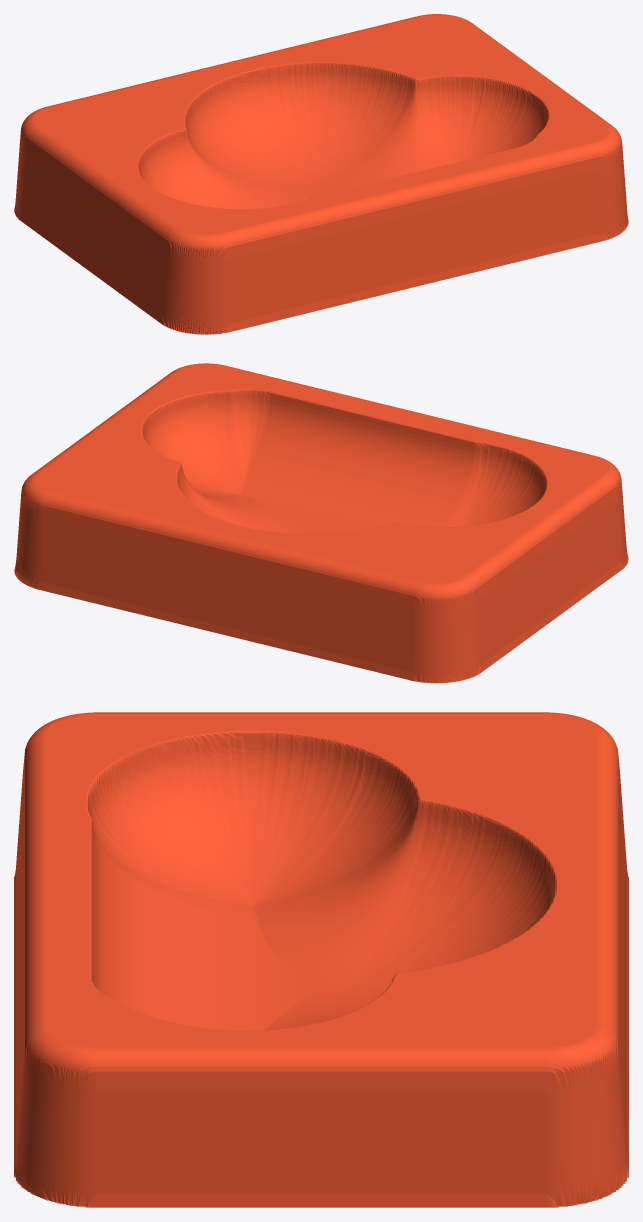
The model's file is mold.glb.
3 views of the same model, one above another, from view 1: azimuth 30°, elevation 25°; view 2: azimuth 150°, elevation 25°; view 3: azimuth 270°, elevation 25° (orthographic). The views are drawn at different scales.
Visible parts, largest first — view 1: geometry_0; view 2: geometry_0; view 3: geometry_0.
Part boxes in pixels (x1,y1,x2,y2): geometry_0: (14, 14, 628, 334); geometry_0: (14, 363, 628, 683); geometry_0: (14, 712, 628, 1207).
Bounding box in the file's own units: 0.0924 × 0.0175 × 0.0666.
